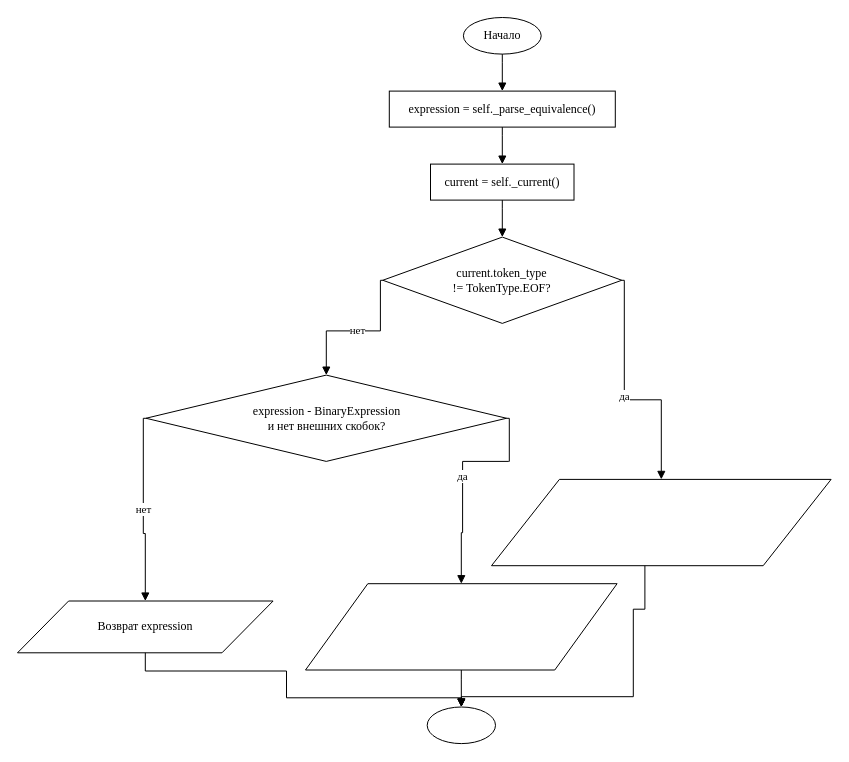
This 849x762 diagram has some shape labels left out. Here are the shapes that lost their labels. From the top down, the box of each, then its label:
(490, 478, 831, 566): Ошибка ParserError: лишний хвост выражения
(304, 583, 617, 670): Ошибка ParserError: нужны внешние скобки
(426, 706, 496, 744): Конец
